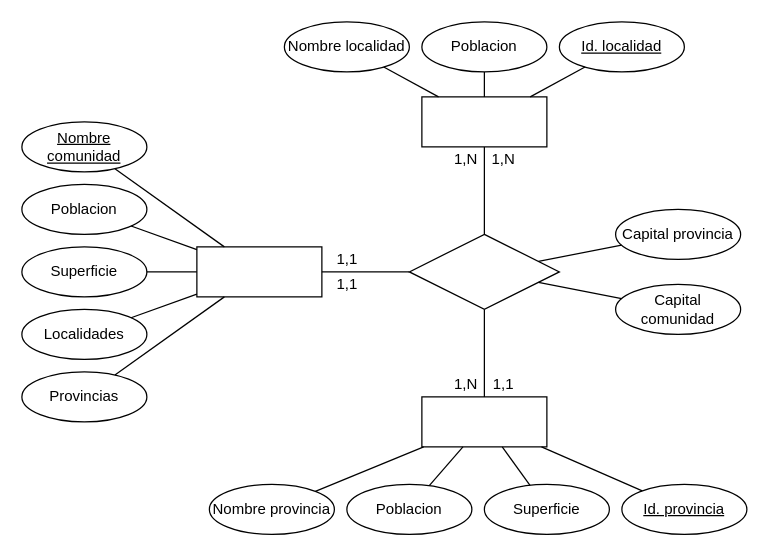
Image size: 769x556. Some labels were removed from this diagram. The centre of each missing label's shape, as x and y in pixels:
COMUNIDAD AUTONOMA: [259,271]
LOCALIDAD: [484,121]
PERTENECE: [483,271]
PROVINCIA: [484,421]
